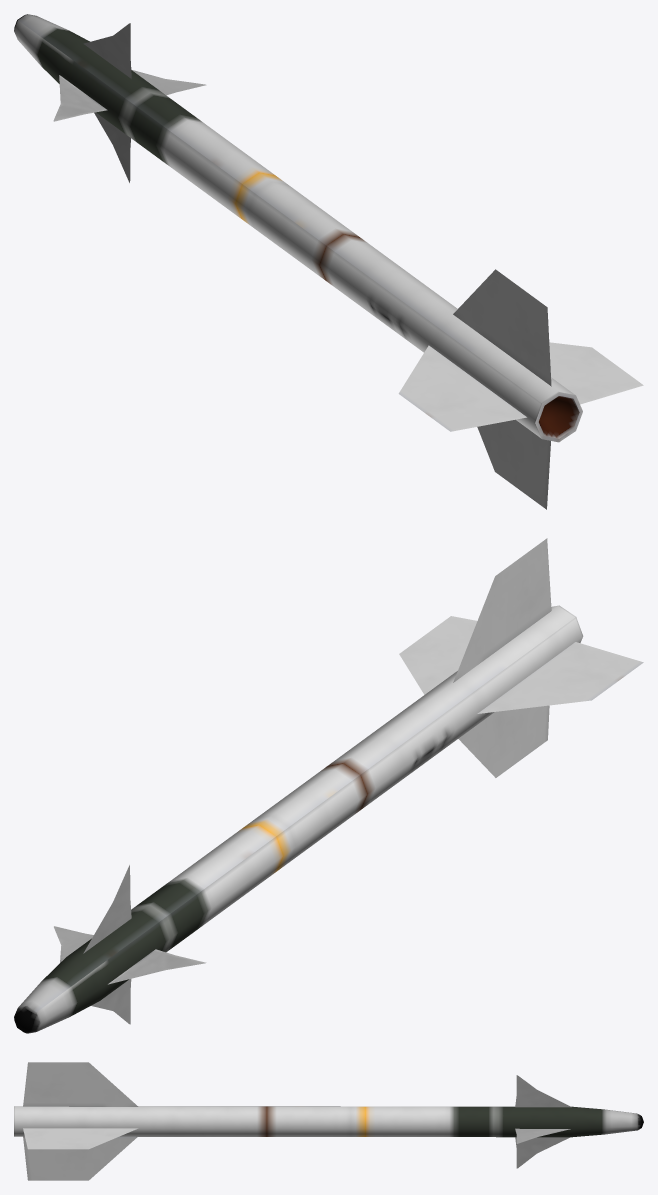
The model's file is stdm.glb.
3 views of the same model, one above another, from view 1: azimuth 30°, elevation 25°; view 2: azimuth 150°, elevation 25°; view 3: azimuth 270°, elevation 25° (orthographic). The views are drawn at different scales.
Parts seen in each view (by area): view 1: AIM-9M Sidewinder; view 2: AIM-9M Sidewinder; view 3: AIM-9M Sidewinder.
Boxes of the visible parts, x1=… form: AIM-9M Sidewinder: x1=14, y1=14, x2=643, y2=509; AIM-9M Sidewinder: x1=14, y1=538, x2=643, y2=1033; AIM-9M Sidewinder: x1=14, y1=1062, x2=643, y2=1180.
Size of the model in its own units: 0.7862 by 0.7861 by 3.79.
Materials: 1 (1 with a texture image).
